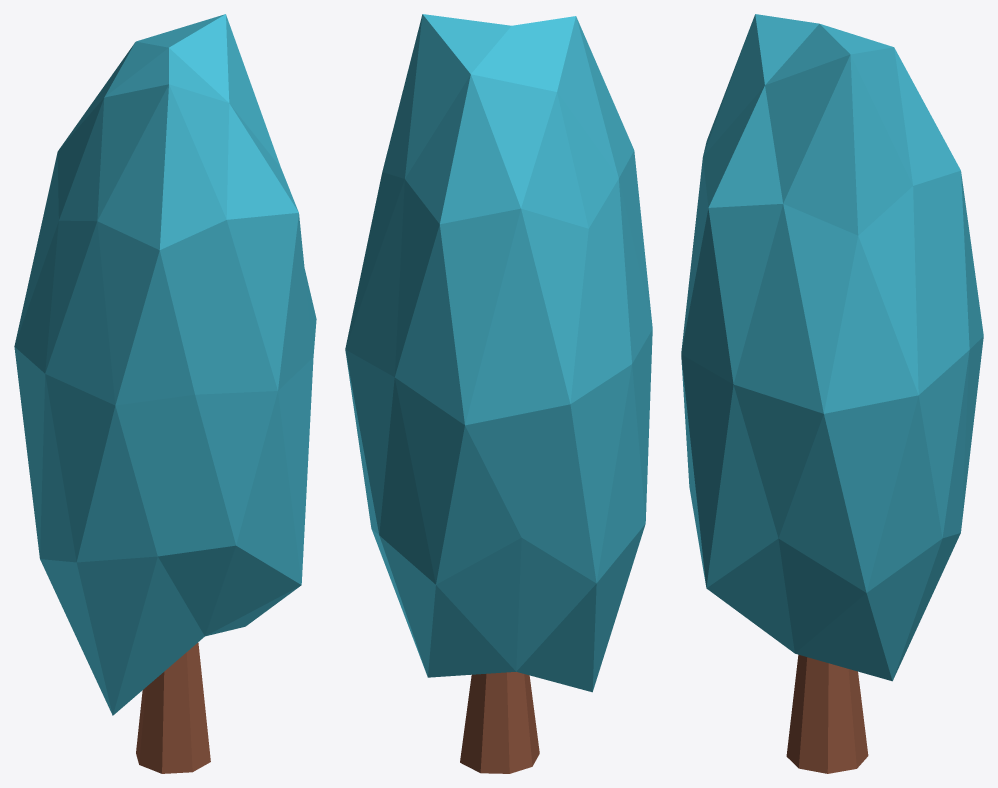
File: Tree_05_summer_blue.fbx
3 renders of one model, left to right at view 1: azimuth 30°, elevation 25°; view 2: azimuth 150°, elevation 25°; view 3: azimuth 270°, elevation 25°, orthographic. The views are drawn at different scales.
Visible parts, largest first — view 1: Tree_05_summer_blue; view 2: Tree_05_summer_blue; view 3: Tree_05_summer_blue.
Part boxes in pixels (x1,y1,x2,y2): Tree_05_summer_blue: (14,14,316,773); Tree_05_summer_blue: (345,14,652,773); Tree_05_summer_blue: (681,14,983,773).
Bounding box in the file's own units: 104 × 266 × 99.25.
